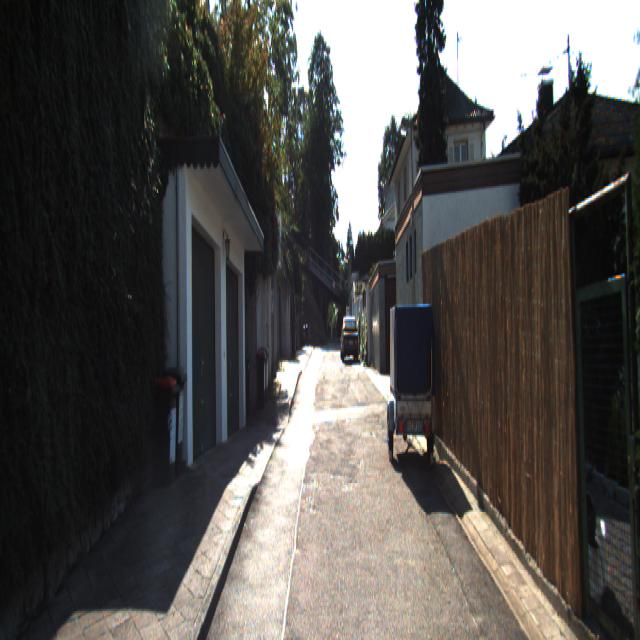Car: (386, 298, 441, 470), (340, 317, 359, 367)
